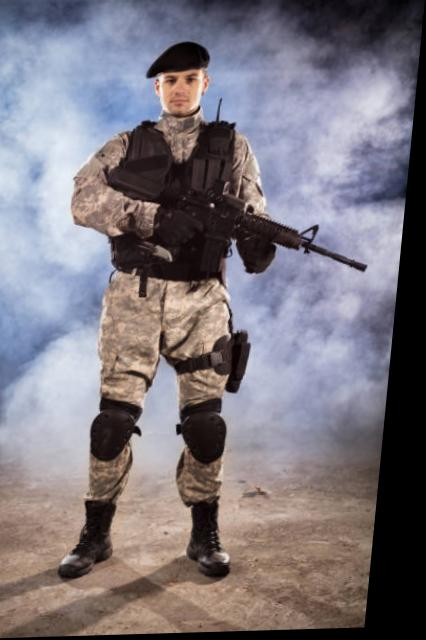other: (31, 30, 316, 611)
